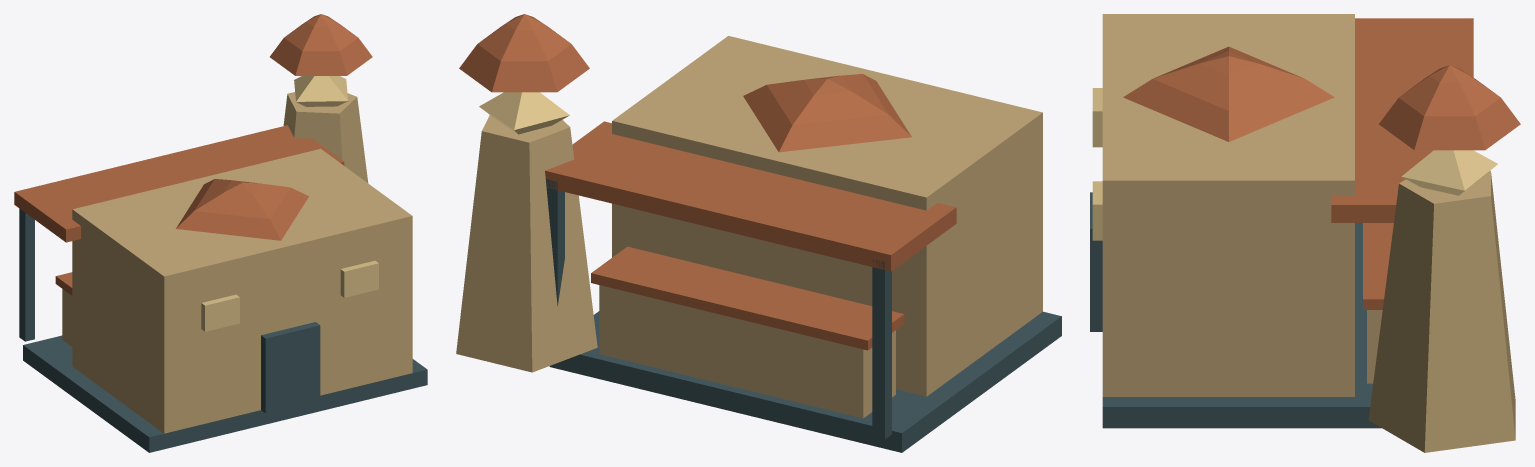
File: exchange.gltf
The picture shows the model from 3 angles, left to right: view 1: azimuth 30°, elevation 25°; view 2: azimuth 150°, elevation 25°; view 3: azimuth 270°, elevation 25°; orthographic projection. The views are drawn at different scales.
Visible parts, largest first — view 1: hall, awning, lamp, floor, awning_posts.2, counter; view 2: hall, lamp, awning, counter, floor, counter_band, awning_posts.2, awning_posts; view 3: hall, lamp, awning, floor, counter_band, counter.
Part boxes in pixels (x1,y1,x2,y2): hall: (72, 148, 412, 433); awning: (14, 125, 344, 242); lamp: (270, 14, 372, 182); floor: (23, 335, 427, 452); awning_posts.2: (19, 208, 34, 341); counter: (62, 289, 72, 346); hall: (612, 36, 1042, 396); lamp: (456, 14, 597, 372); awning: (545, 121, 956, 271); counter: (599, 285, 895, 418); floor: (549, 311, 1061, 452); counter_band: (591, 246, 904, 350); awning_posts.2: (872, 259, 891, 439); awning_posts: (546, 179, 564, 305); hall: (1090, 14, 1354, 396); lamp: (1368, 65, 1520, 452); awning: (1331, 18, 1473, 222); floor: (1102, 223, 1381, 428); counter_band: (1363, 223, 1393, 309); counter: (1367, 310, 1382, 383).
Size of the model in its own units: 6.98 by 5.27 by 5.46.
